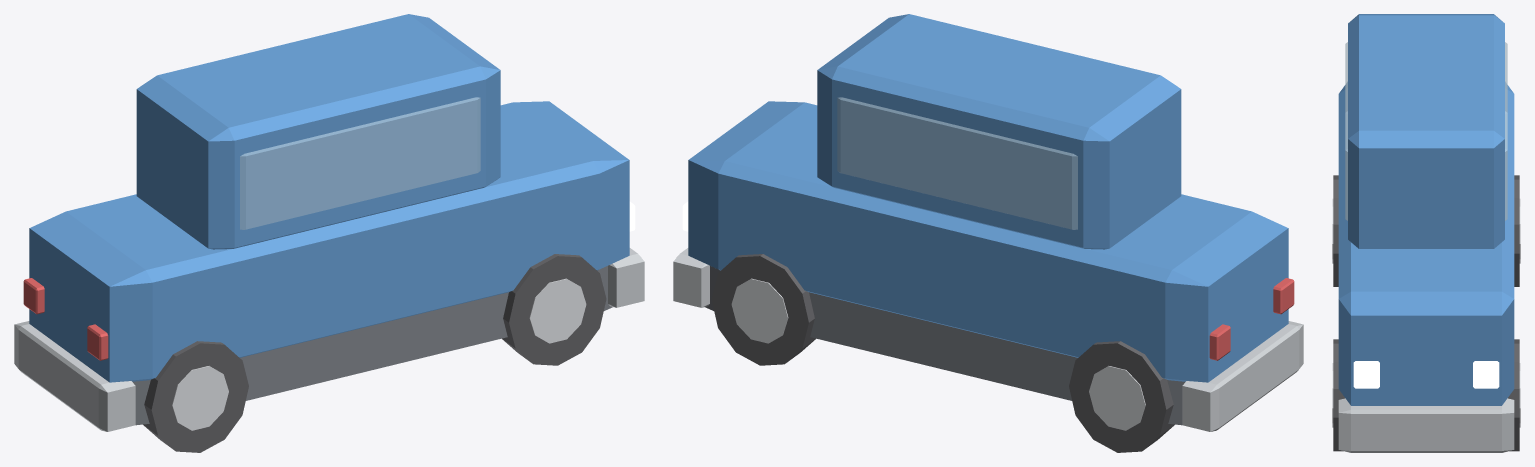
Rendered from b03_swept_bar_beach_cruiser.glb.
3 renders of one model, left to right at view 1: azimuth 30°, elevation 25°; view 2: azimuth 150°, elevation 25°; view 3: azimuth 270°, elevation 25°, orthographic. The views are drawn at different scales.
Parts seen in each view (by area): view 1: b03_swept_bar_beach_cruiser; view 2: b03_swept_bar_beach_cruiser; view 3: b03_swept_bar_beach_cruiser.
Boxes of the visible parts, x1=… form: b03_swept_bar_beach_cruiser: x1=14, y1=14, x2=644, y2=452; b03_swept_bar_beach_cruiser: x1=673, y1=14, x2=1303, y2=452; b03_swept_bar_beach_cruiser: x1=1332, y1=14, x2=1520, y2=452.
Bounding box in the file's own units: 1.94 × 1.04 × 0.62.
